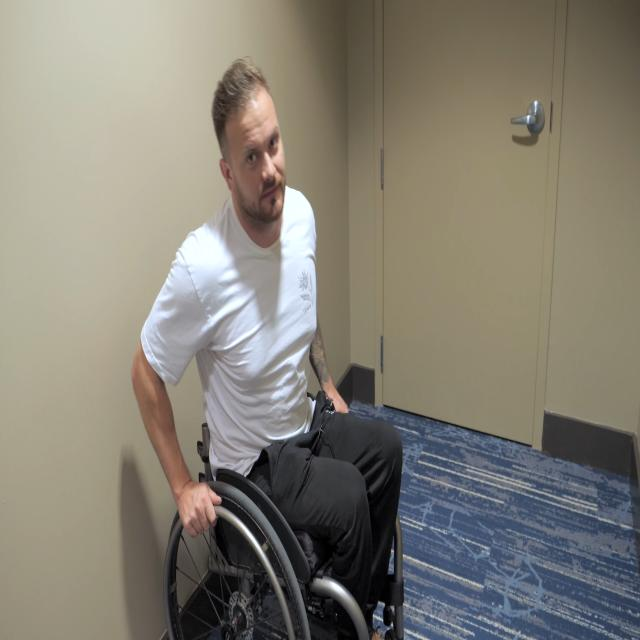wheelchairs: (158, 394, 410, 640)
